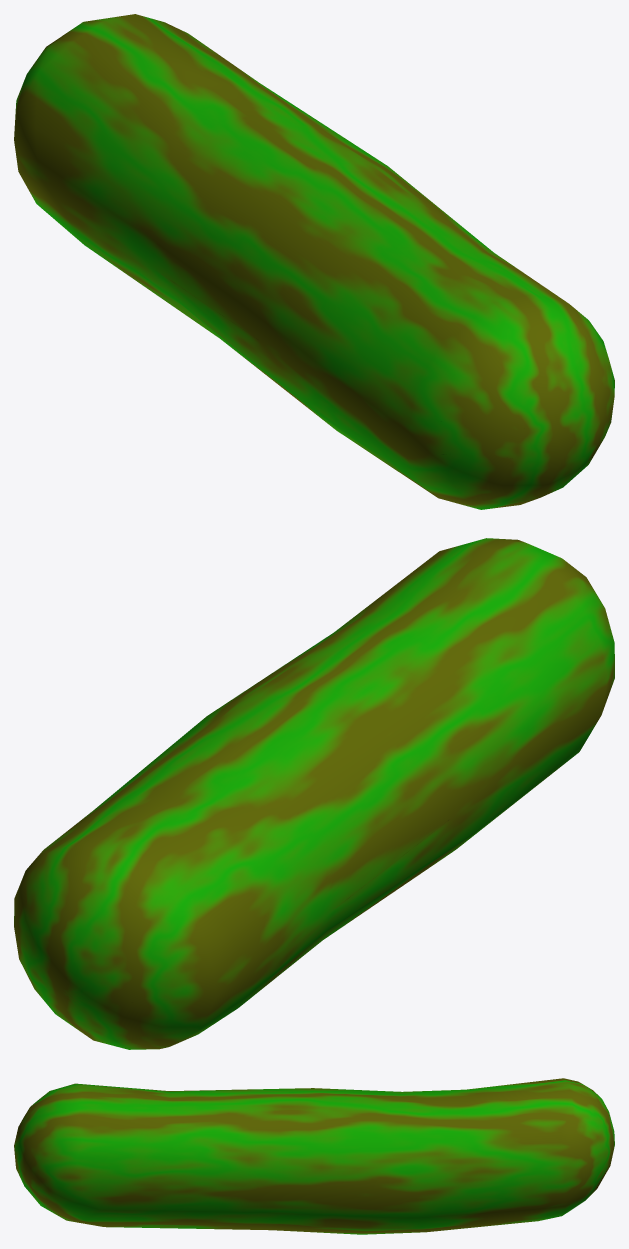
File: MC_Cucumber.fbx
3 renders of one model, top to bottom at view 1: azimuth 30°, elevation 25°; view 2: azimuth 150°, elevation 25°; view 3: azimuth 270°, elevation 25°, orthographic. The views are drawn at different scales.
Visible parts, largest first — view 1: Cucumber; view 2: Cucumber; view 3: Cucumber.
Part boxes in pixels (<box>): Cucumber: <box>14,14,614,509</box>; Cucumber: <box>14,538,614,1049</box>; Cucumber: <box>14,1078,614,1234</box>.
Bounding box in the file's own units: 6.32 × 6.02 × 23.79.
